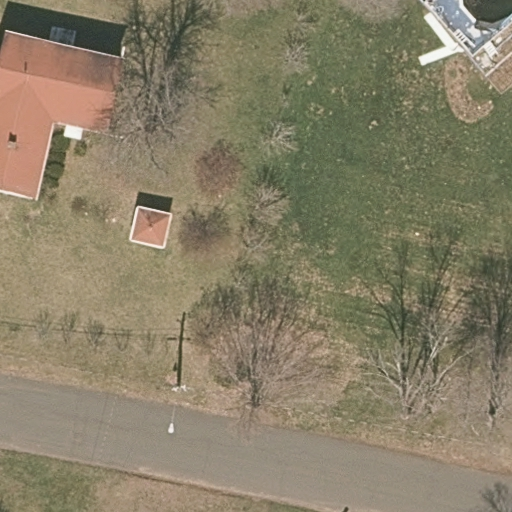DT: (168, 379, 190, 399)
